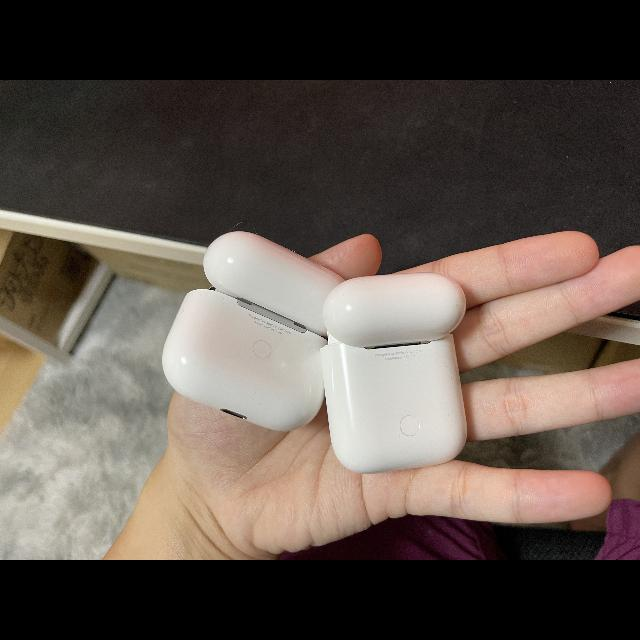airpod2: (312, 268, 483, 472)
airpod3: (152, 210, 358, 434)
